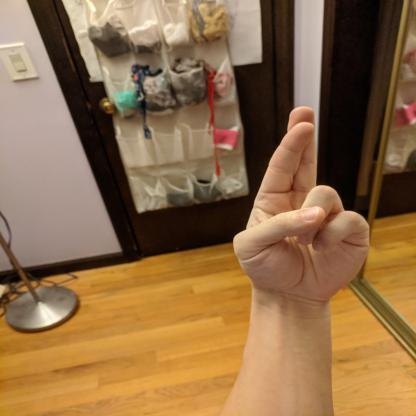R: (229, 102, 375, 304)
